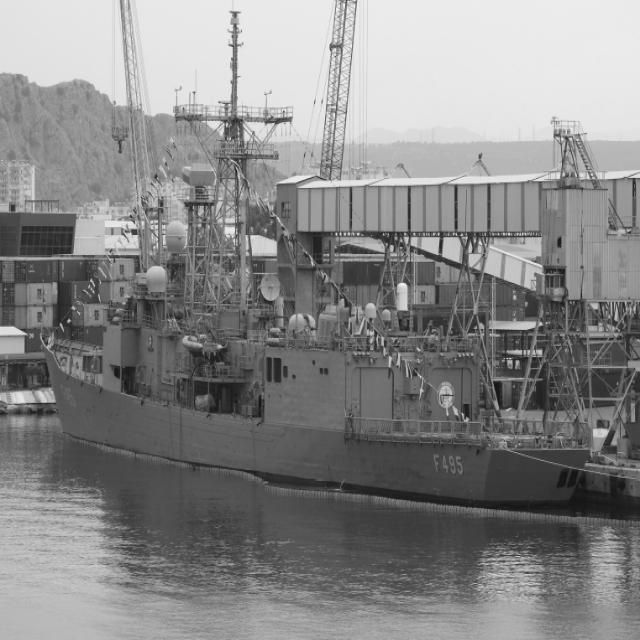Fragata: (39, 1, 599, 520)
